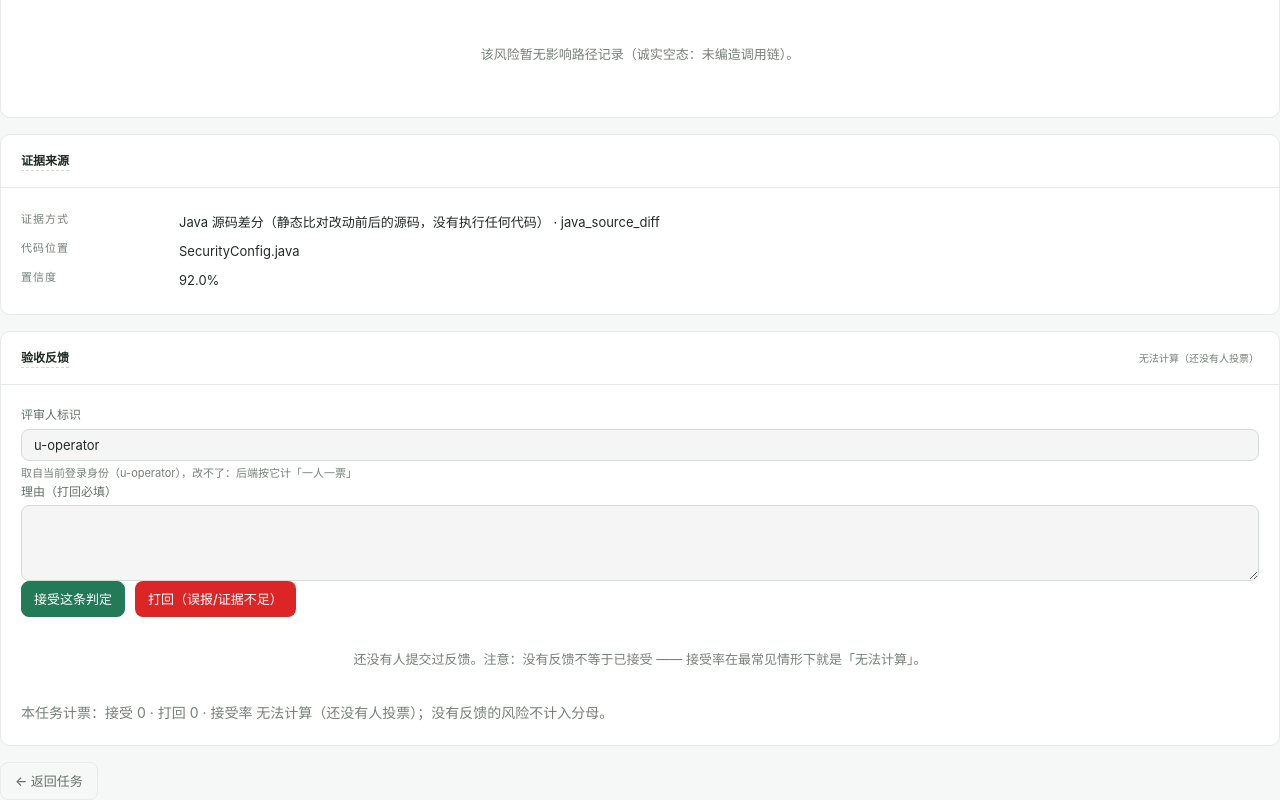
FindingDetail 验收反馈入口 (#84) — Go/No-Go #13 needs a UI › tells the reviewer that a repeated verdict was not counted twice
The image size is (1280, 800).
(page scrolled)
Click the button "接受这条判定".
click(73, 599)  # box [21,581,125,617]
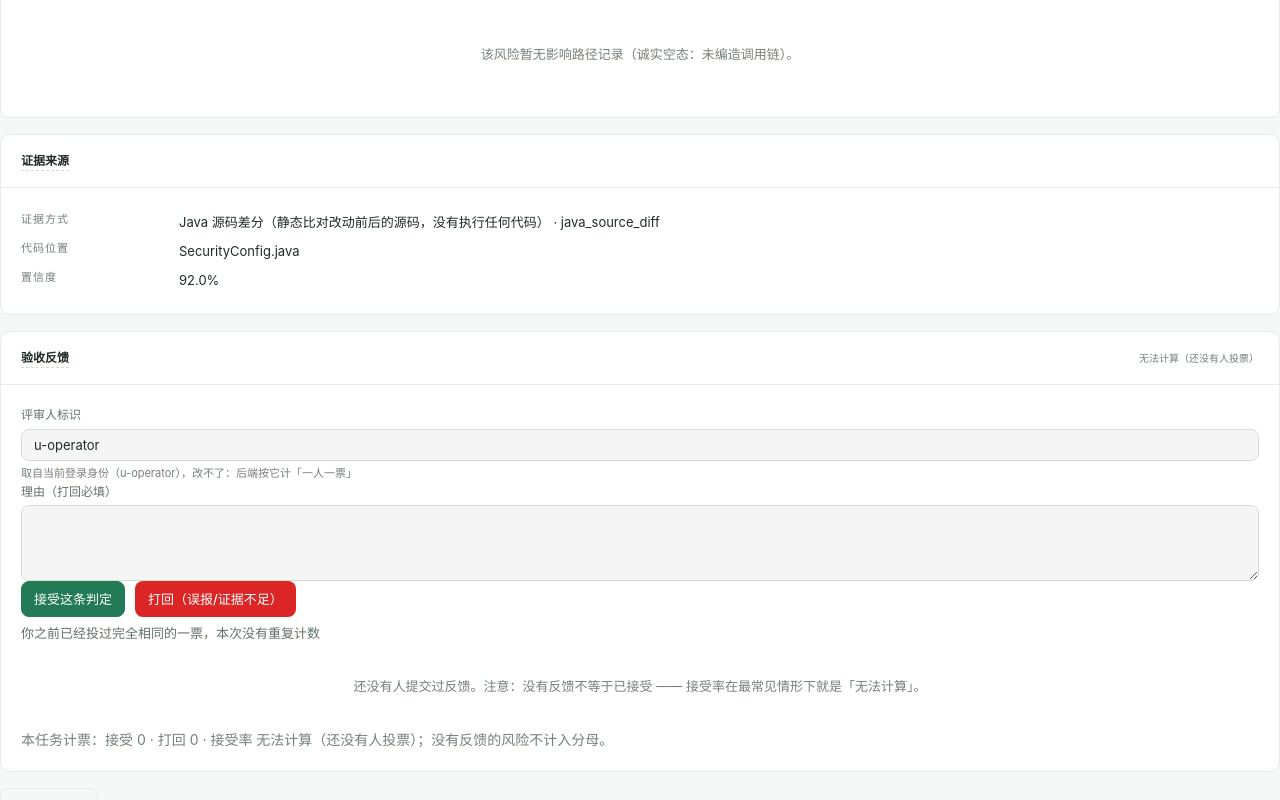
Now the text "你之前已经投过完全相同的一票，本次没有重复计数" is shown, box [21,625,320,641]
